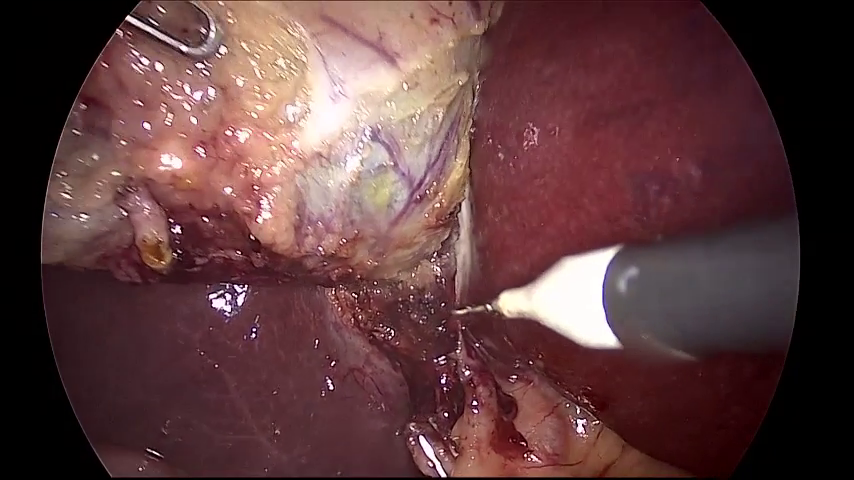grasper: (119, 1, 218, 56)
lhook: (452, 216, 799, 364)
